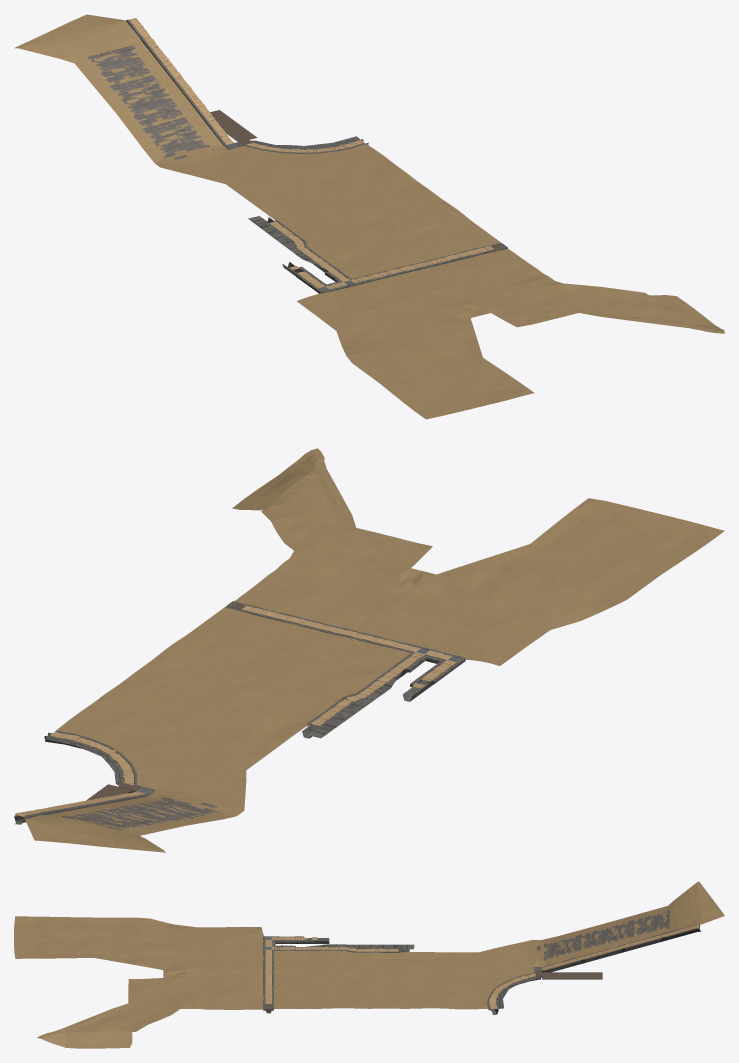
Rendered from SM_ENV_KNVLLG_ground_12.fbx.
3 views of the same model, one above another, from view 1: azimuth 30°, elevation 25°; view 2: azimuth 150°, elevation 25°; view 3: azimuth 270°, elevation 25° (orthographic). The views are drawn at different scales.
Visible parts, largest first — view 1: SM_ENV_KNVLLG_ground_12.mo; view 2: SM_ENV_KNVLLG_ground_12.mo; view 3: SM_ENV_KNVLLG_ground_12.mo.
Part boxes in pixels (x1,y1,x2,y2): SM_ENV_KNVLLG_ground_12.mo: [15, 14, 724, 419]; SM_ENV_KNVLLG_ground_12.mo: [14, 448, 724, 852]; SM_ENV_KNVLLG_ground_12.mo: [14, 881, 724, 1048].
Bounding box in the file's own units: 9051 × 1658 × 21656.
